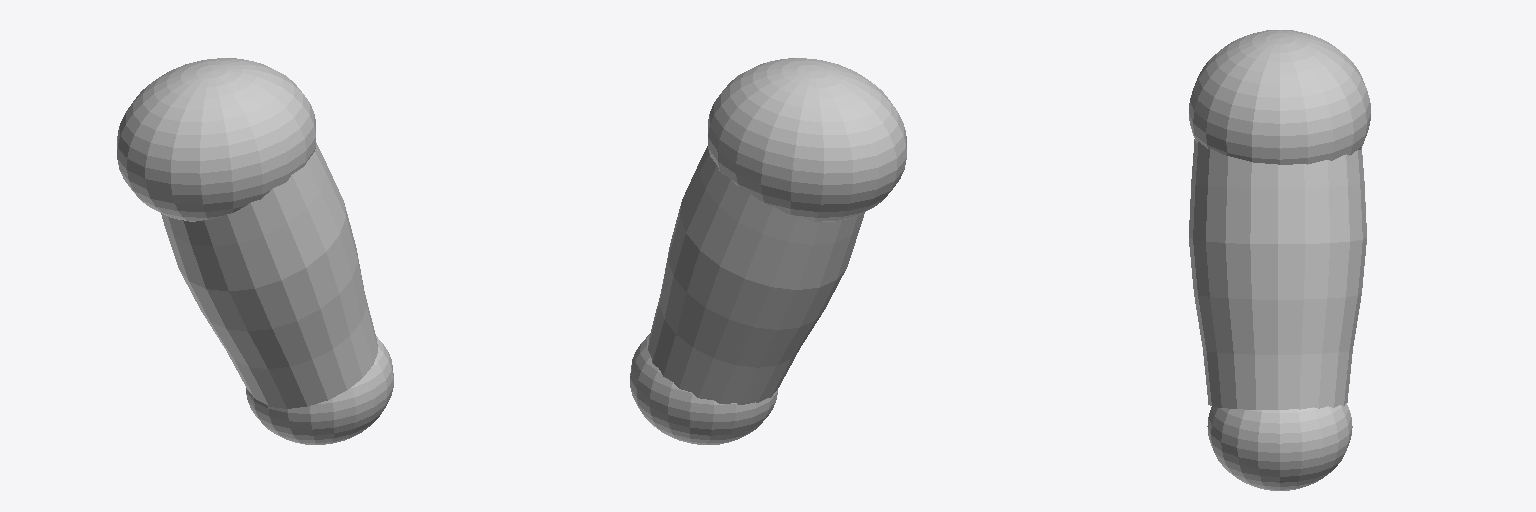
File: armL.obj
3 renders of one model, left to right at view 1: azimuth 30°, elevation 25°; view 2: azimuth 150°, elevation 25°; view 3: azimuth 270°, elevation 25°, orthographic.
Visible parts, largest first — view 1: armL:pSphere8; view 2: armL:pSphere8; view 3: armL:pSphere8.
Part boxes in pixels (x1,y1,x2,y2): armL:pSphere8: (117, 58, 393, 444); armL:pSphere8: (630, 58, 906, 444); armL:pSphere8: (1189, 30, 1370, 490).
Bounding box in the file's own units: 2.3 × 3.34 × 1.41.